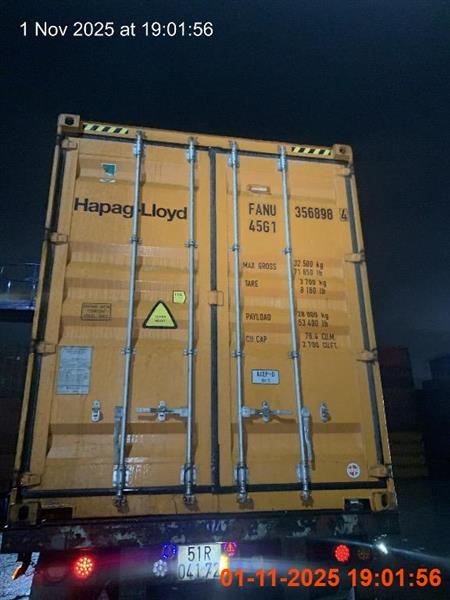hole: (2, 116, 444, 585)
